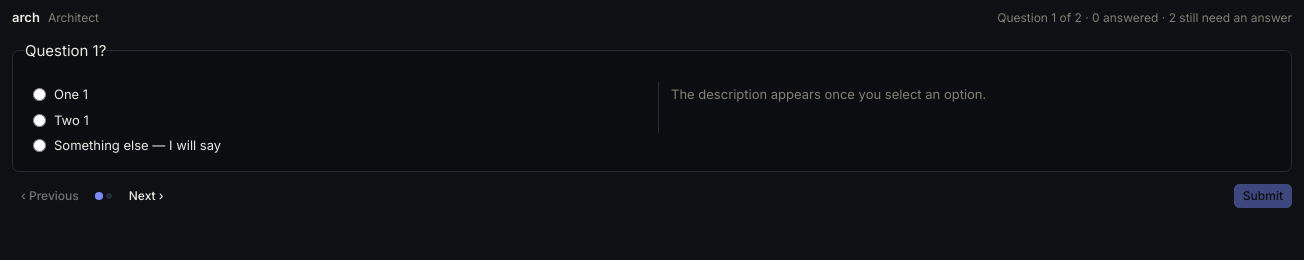
it: the two rails of a described set › DQA-FR-USTA: hovering the own-answer row shows the placeholder, even over a selection
Click the radio button labelled "One 1". click: click(40, 95)
box: [33,88,46,101]
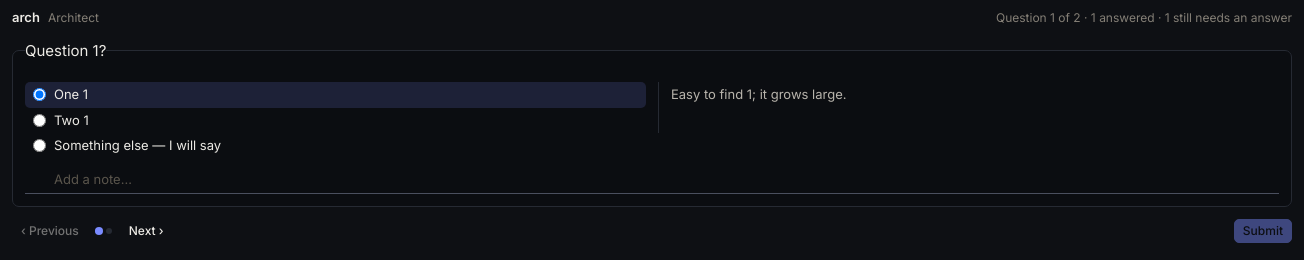
Hover over the element with test id "discussion-questions-own" at (127, 145), box [33,137,221,153]
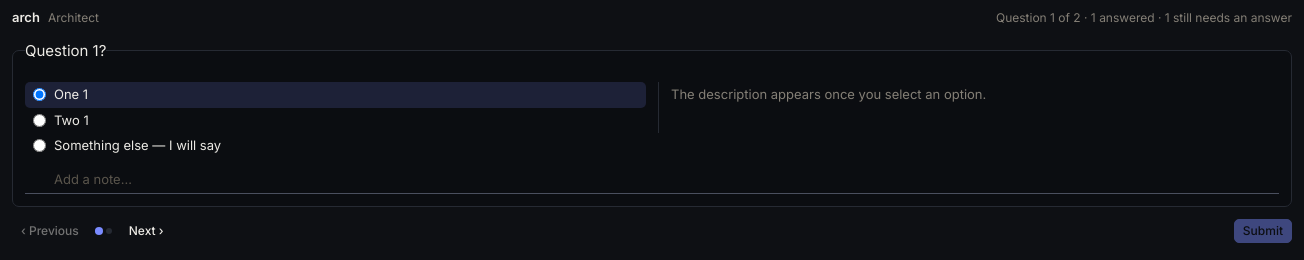
Now the text "The description appears once you select an option." is shown, box [671,86,986,102]
Move the pointer off the element with test id "discussion-questions-own", box [33,137,221,153]
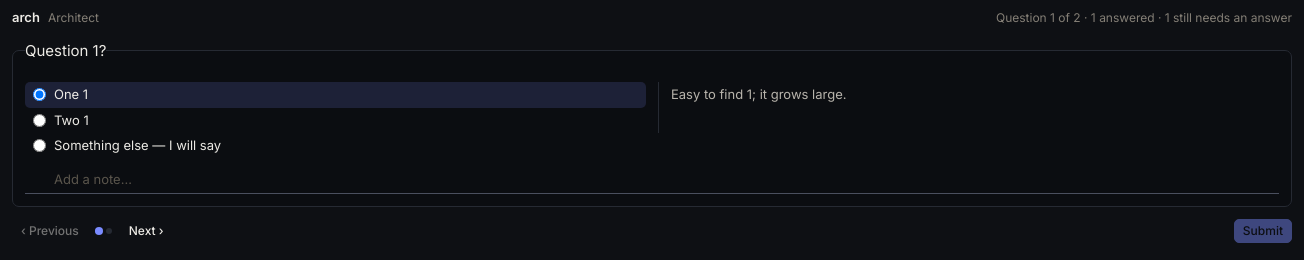
Now the text "Easy to find 1; it grows large." is shown, box [671,86,846,102]
